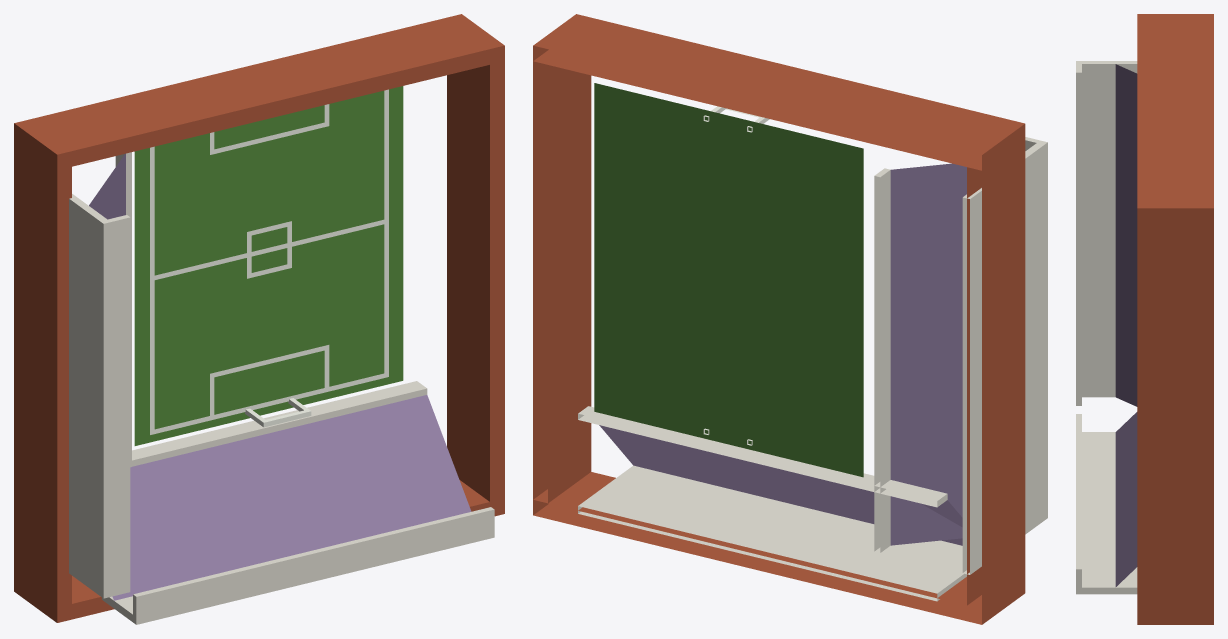
The model's file is complete.glb.
The picture shows the model from 3 angles, left to right: view 1: azimuth 30°, elevation 25°; view 2: azimuth 150°, elevation 25°; view 3: azimuth 270°, elevation 25°; orthographic projection. The views are drawn at different scales.
Visible parts, largest first — view 1: done; view 2: done; view 3: done.
Boxes of the visible parts, <box> form: done: <box>14,14,504,624</box>; done: <box>533,14,1047,624</box>; done: <box>1076,14,1213,624</box>.
Size of the model in its own units: 30 by 30 by 9.
